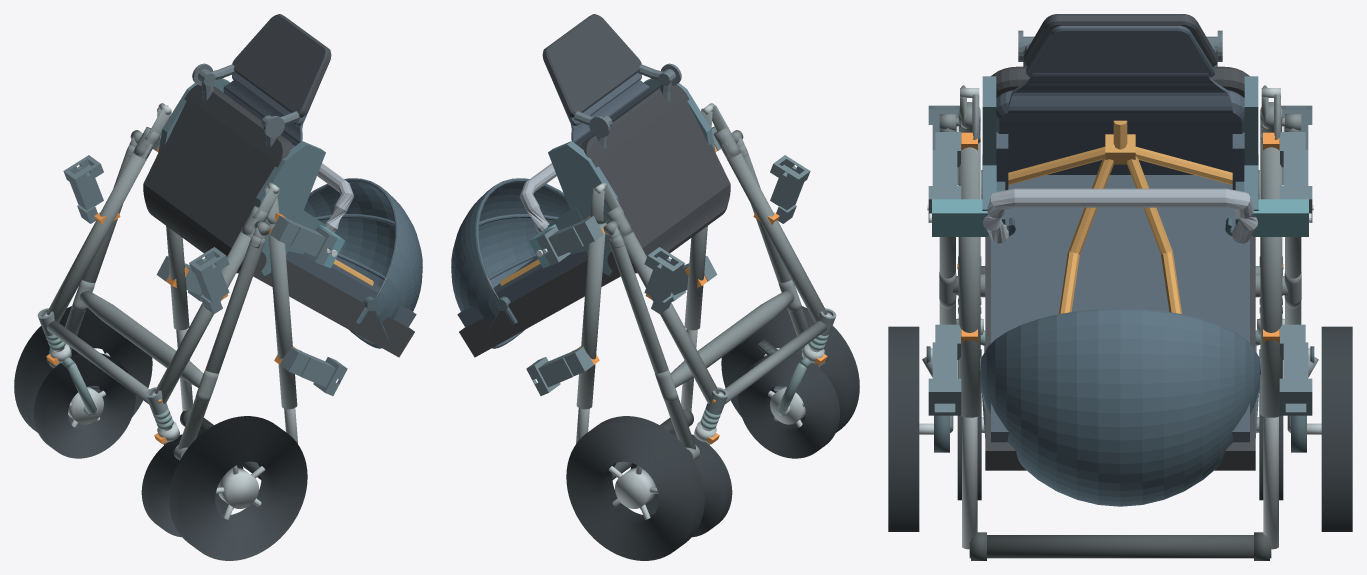
Rendered from S05_w550_state3_wheel_M.glb.
The picture shows the model from 3 angles, left to right: view 1: azimuth 30°, elevation 25°; view 2: azimuth 150°, elevation 25°; view 3: azimuth 270°, elevation 25°; orthographic projection. The views are drawn at different scales.
Parts seen in each view (by area): view 1: S05_Cabin, RL_tire.002, FR_tire.002, RR_tire.002, S05_Cabin_Mount_M, main_lower_1.003, V46_rear_leg_-1.003, main_upper_-1.003, FL_tire.002, V46_rearbar.003, main_lower_-1.003, Universal_Cabin_Receiver_H_-1 (+10 smaller); view 2: S05_Cabin, RR_tire.002, FL_tire.002, RL_tire.002, S05_Cabin_Mount_M, main_lower_-1.003, V46_rear_leg_1.003, main_upper_1.003, FR_tire.002, V46_rearbar.003, main_lower_1.003, Universal_Cabin_Receiver_H_1 (+10 smaller); view 3: S05_Cabin, S05_Cabin_Mount_M, RL_tire.002, RR_tire.002, round_handle.002, main_upper_1.003, main_upper_-1.003, Universal_Cabin_Receiver_H_1, Universal_Cabin_Receiver_H_-1, handle_slider_1.002, handle_slider_-1.002, Universal_Cabin_Receiver_M_1 (+9 smaller).
Part boxes in pixels (x1,y1,x2,y2): S05_Cabin: (143, 14, 422, 357); RL_tire.002: (169, 416, 307, 560); FR_tire.002: (34, 353, 135, 458); RR_tire.002: (14, 306, 152, 432); S05_Cabin_Mount_M: (158, 78, 344, 275); main_lower_1.003: (46, 144, 152, 322); V46_rear_leg_-1.003: (178, 235, 265, 449); main_upper_-1.003: (267, 222, 297, 409); FL_tire.002: (141, 431, 243, 537); V46_rearbar.003: (79, 291, 203, 387); main_lower_-1.003: (154, 229, 254, 403); Universal_Cabin_Receiver_H_-1: (280, 346, 347, 395); S05_Cabin: (451, 14, 730, 357); RR_tire.002: (566, 416, 704, 560); FL_tire.002: (738, 353, 839, 458); RL_tire.002: (721, 306, 859, 432); S05_Cabin_Mount_M: (529, 78, 715, 275); main_lower_-1.003: (721, 144, 827, 322); V46_rear_leg_1.003: (608, 235, 695, 449); main_upper_1.003: (576, 220, 606, 409); FR_tire.002: (630, 431, 732, 537); V46_rearbar.003: (670, 291, 794, 387); main_lower_1.003: (619, 229, 719, 403); Universal_Cabin_Receiver_H_1: (526, 346, 593, 395); S05_Cabin: (980, 14, 1260, 506); S05_Cabin_Mount_M: (927, 76, 1313, 236); RL_tire.002: (888, 326, 919, 531); RR_tire.002: (1321, 326, 1352, 531); round_handle.002: (969, 535, 1271, 558); main_upper_1.003: (1260, 139, 1282, 417); main_upper_-1.003: (958, 142, 980, 417); Universal_Cabin_Receiver_H_1: (1279, 324, 1312, 415); Universal_Cabin_Receiver_H_-1: (928, 324, 961, 415); handle_slider_1.002: (1263, 416, 1278, 549); handle_slider_-1.002: (962, 416, 977, 549); Universal_Cabin_Receiver_M_1: (1279, 132, 1312, 222).
Bounding box in the file's own units: 0.7471 × 0.9736 × 0.6771.
